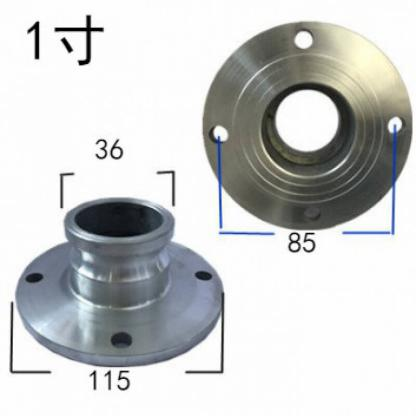FOD: (199, 18, 415, 235), (13, 190, 228, 374)
